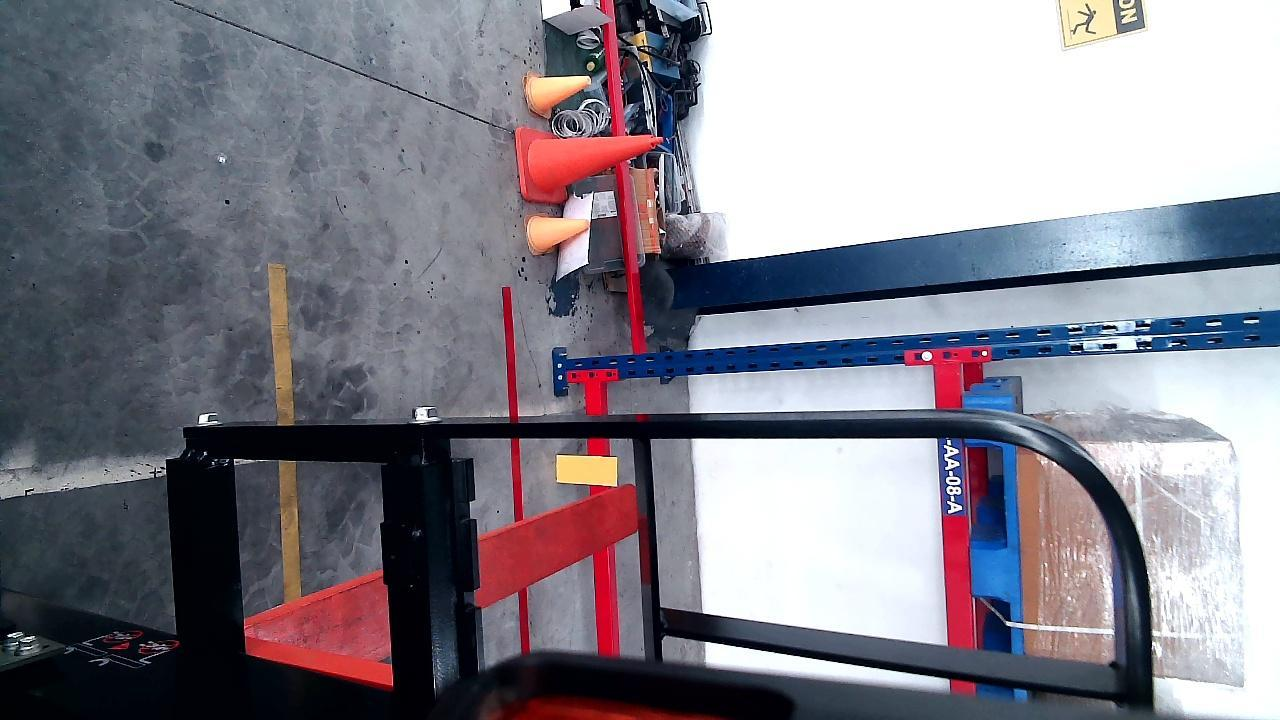red_line: (495, 289, 538, 648)
yellow_line: (269, 256, 302, 614)
